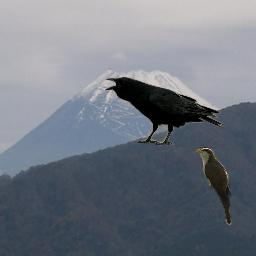Crow: (105, 77, 223, 146)
Cuckoo: (194, 147, 233, 226)
